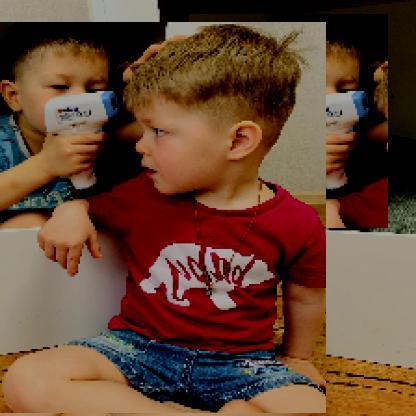child: (1, 23, 328, 415), (190, 15, 390, 230)
